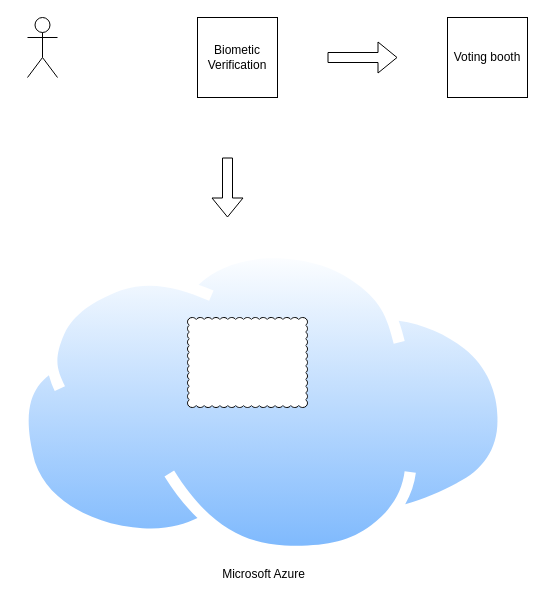
Some shapes in this 545 by 599 pixel diagram are drawn without their labels. Each missing label, with the centre of its shape:
"Face API" goes at (247,362).
"Voter" goes at (42,47).
